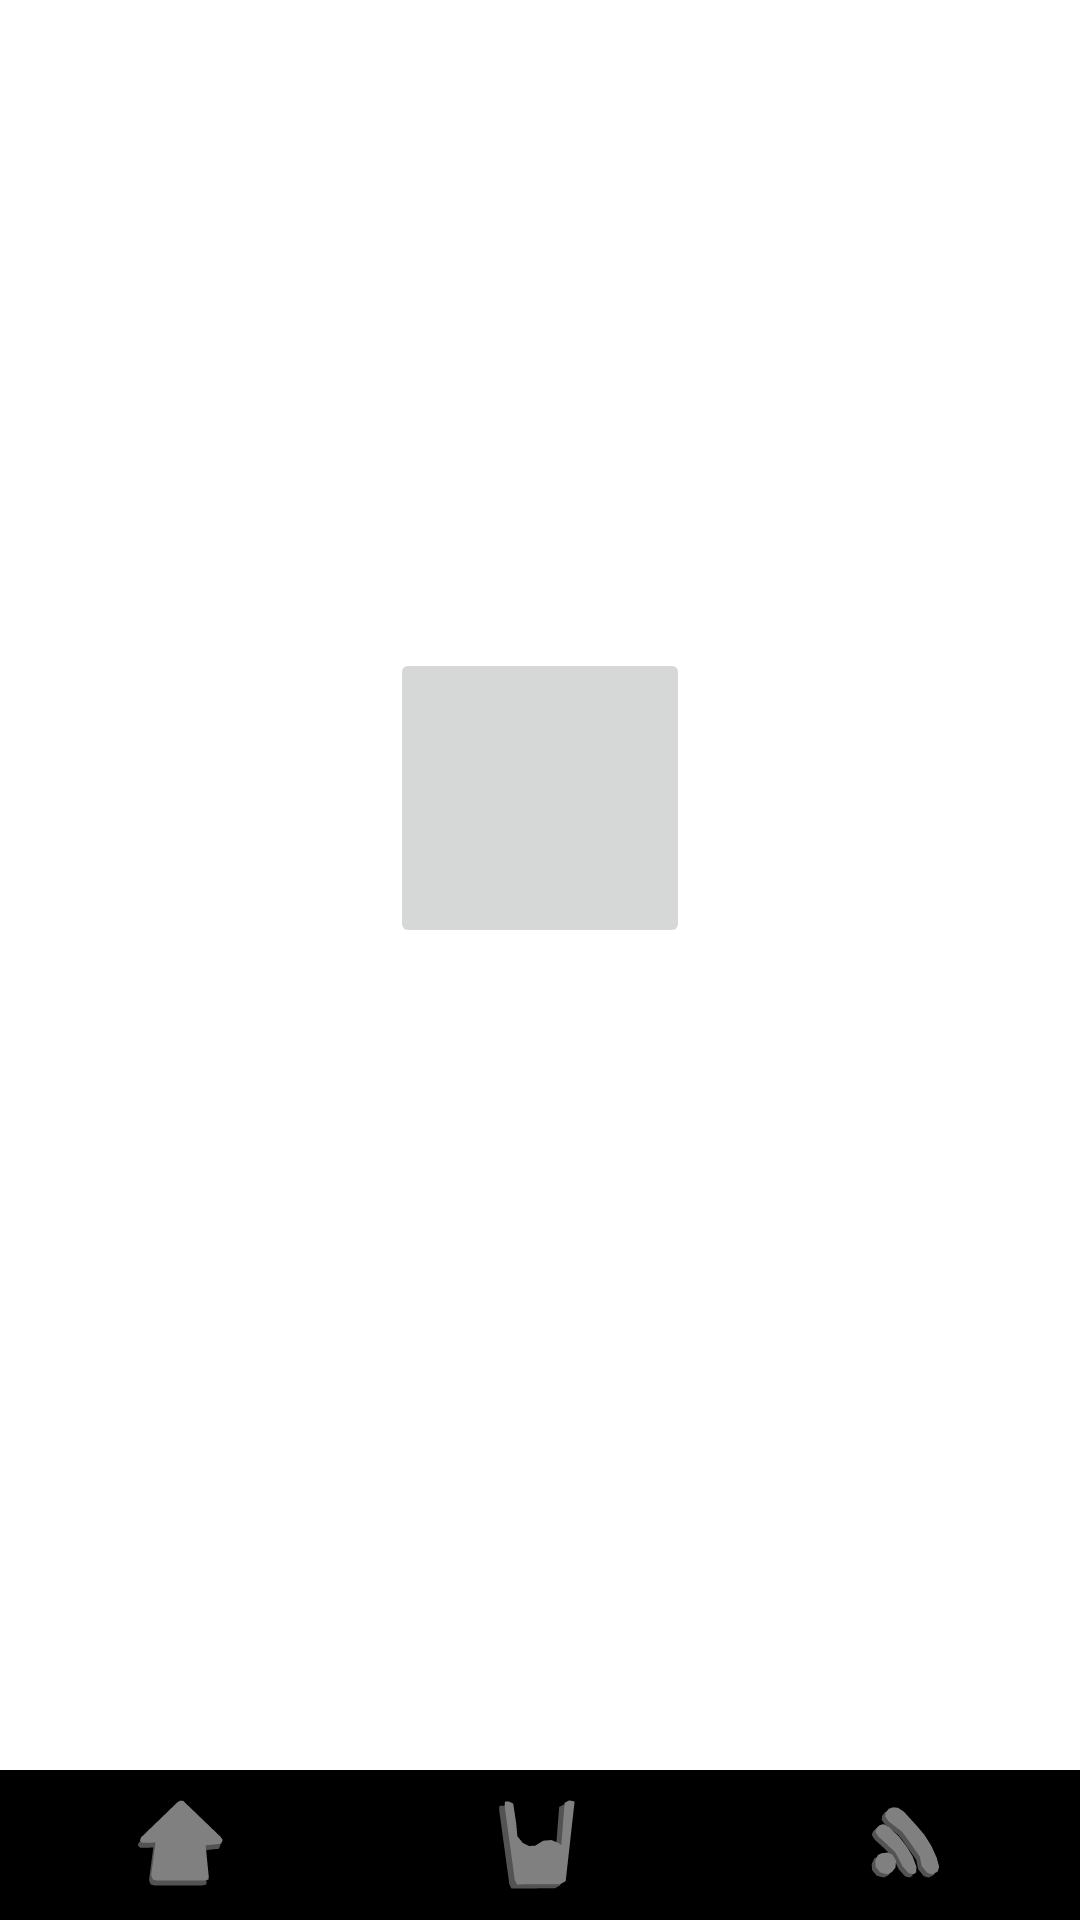

Where icons sit on this 1080 x 1920 app screen, as [left=x1, top=y1, right=x2, bottom=y2]:
watervector: [left=499, top=1800, right=575, bottom=1889]
